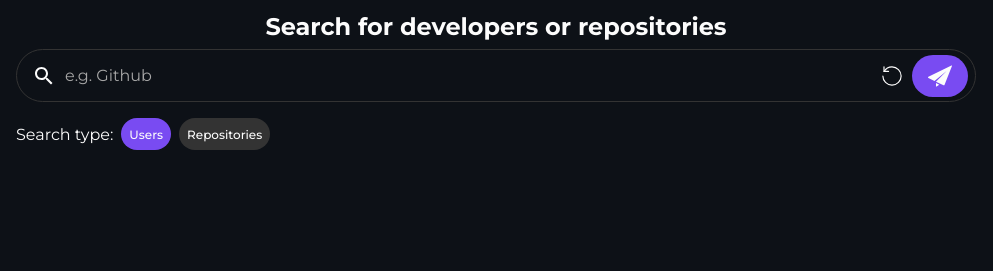
Search › should show 404 message correctly
The image size is (993, 271).
Type "test" into the field with test id "input" at (496, 76), box [16,49,976,102]
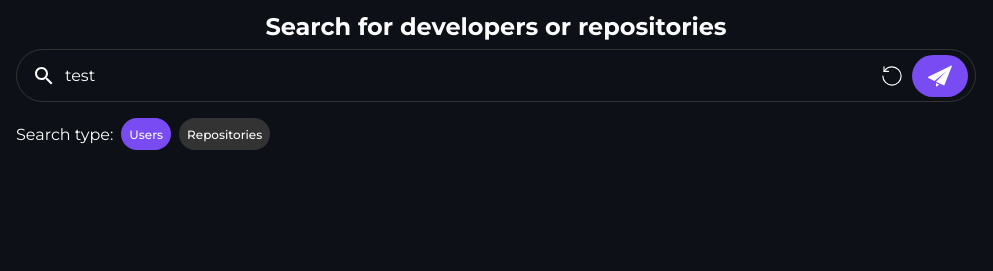
Submit the form with test id "form", box [16,49,976,102]
Wait 2000 ms
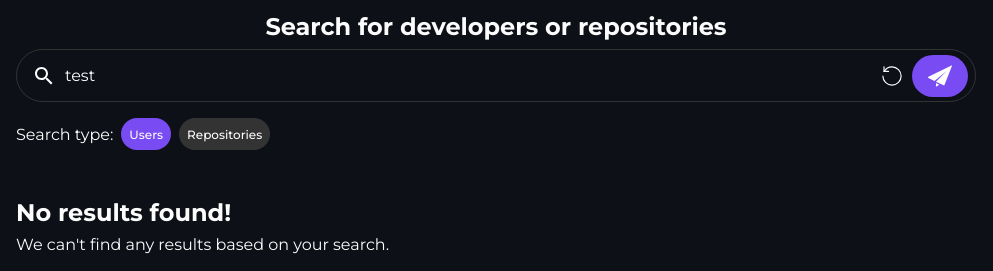
Now the heading "No results found!" is shown, box [16,198,231,227]
